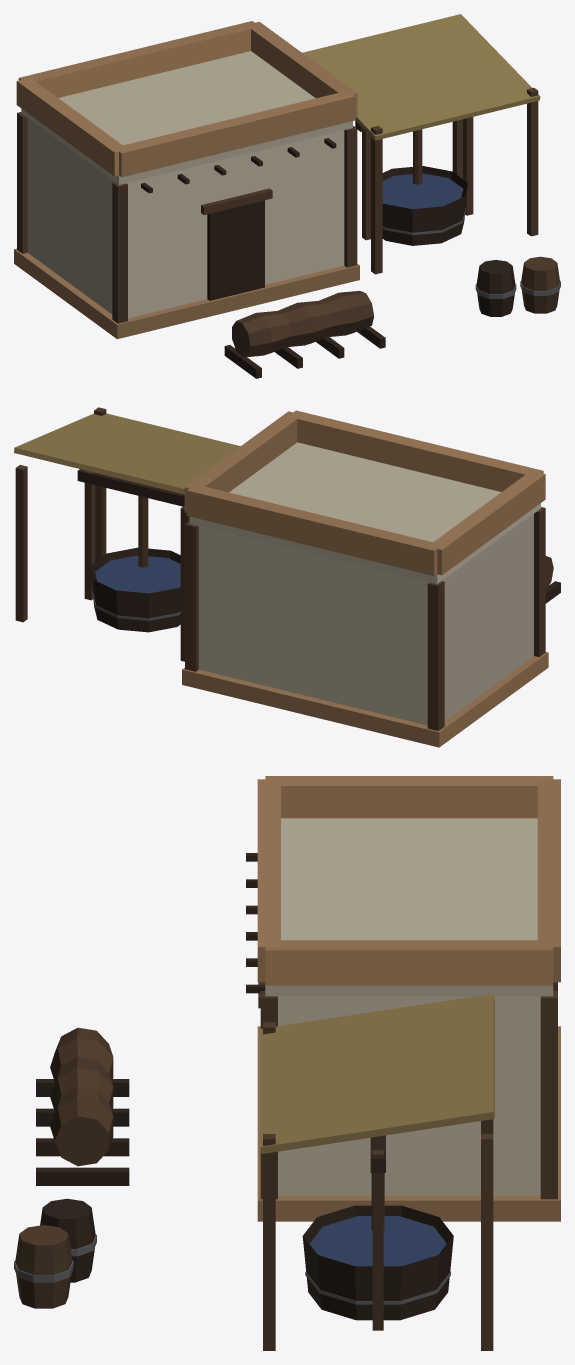
The model's file is walk_sunborn_winery.glb.
The picture shows the model from 3 angles, top to bottom: view 1: azimuth 30°, elevation 25°; view 2: azimuth 150°, elevation 25°; view 3: azimuth 270°, elevation 25°; orthographic projection. The views are drawn at different scales.
Parts seen in each view (by area): view 1: walk_sunborn_winery, walk_sunborn_winery_roof; view 2: walk_sunborn_winery, walk_sunborn_winery_roof; view 3: walk_sunborn_winery_roof, walk_sunborn_winery.
Part boxes in pixels (<box>): walk_sunborn_winery: <box>14,88,560,378</box>; walk_sunborn_winery_roof: <box>16,14,540,184</box>; walk_sunborn_winery: <box>15,407,560,747</box>; walk_sunborn_winery_roof: <box>14,410,545,584</box>; walk_sunborn_winery_roof: <box>257,776,560,1153</box>; walk_sunborn_winery: <box>14,853,560,1350</box>.
Size of what is drawn, in the model's own units: 9.25 by 3.85 by 7.03.
Materials: 2 (2 with a texture image).
